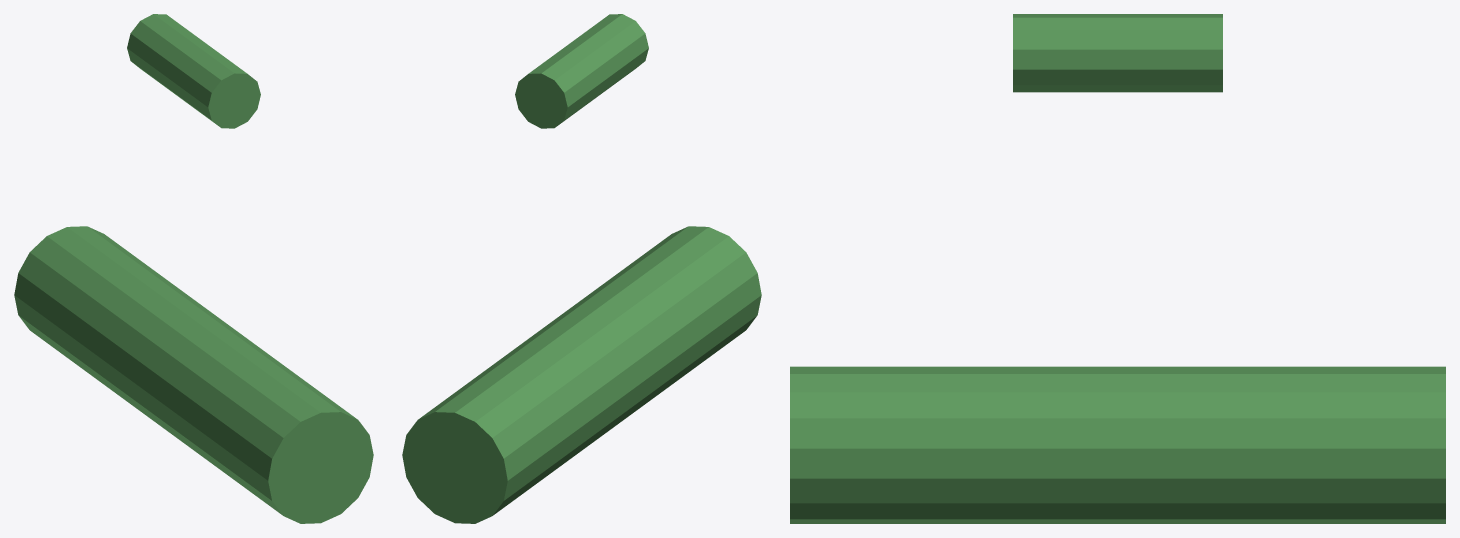
Rendered from bottle.glb.
3 renders of one model, left to right at view 1: azimuth 30°, elevation 25°; view 2: azimuth 150°, elevation 25°; view 3: azimuth 270°, elevation 25°, orthographic. The views are drawn at different scales.
Parts seen in each view (by area): view 1: geometry_0; view 2: geometry_0; view 3: geometry_0.
Part boxes in pixels (x1,y1,x2,y2): geometry_0: [14, 14, 373, 523]; geometry_0: [402, 14, 761, 523]; geometry_0: [790, 14, 1445, 523].
Size of the model in its own units: 0.6 by 2.1 by 2.5.
